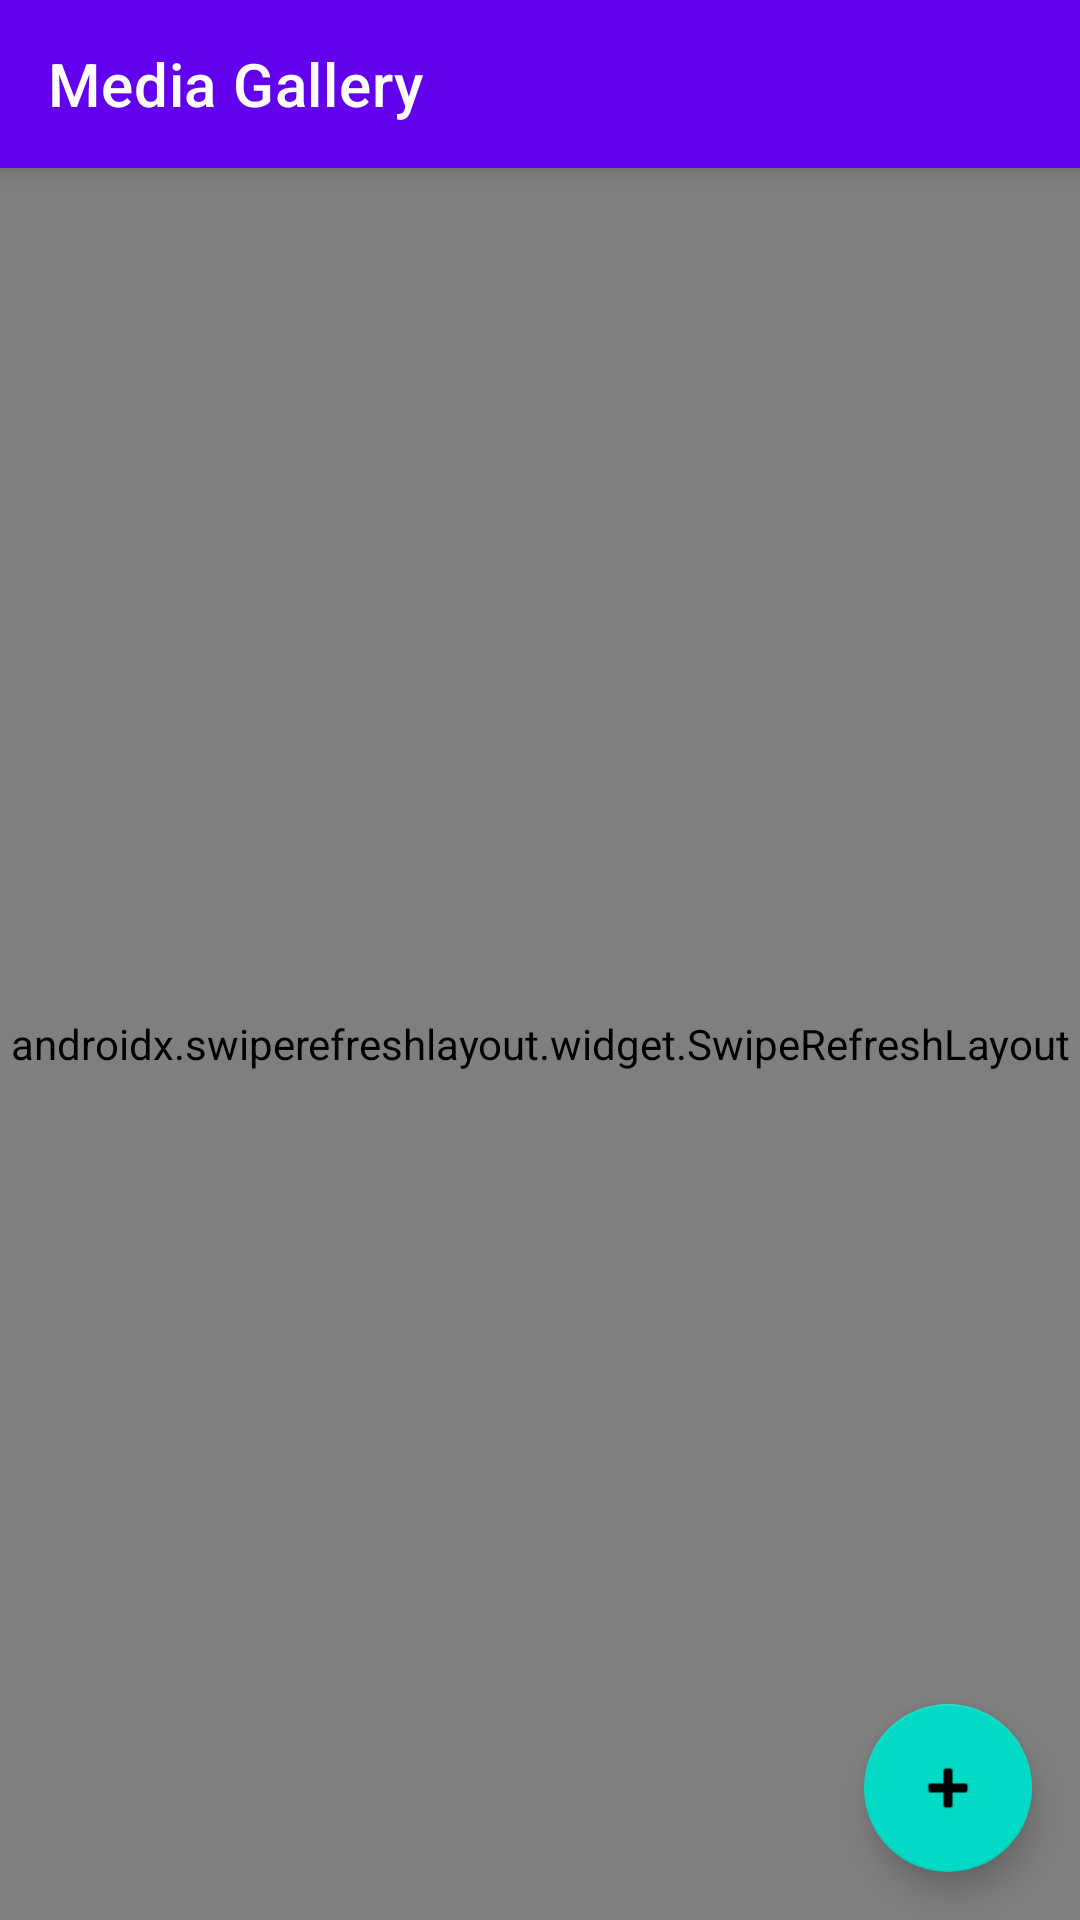

Screen size 1080px×1920px. Icon name, then its box in pixels as [x1=x1, y1=y1, x2=x2, y2=y2]:
Add attachment: [x1=864, y1=1704, x2=1032, y2=1872]
